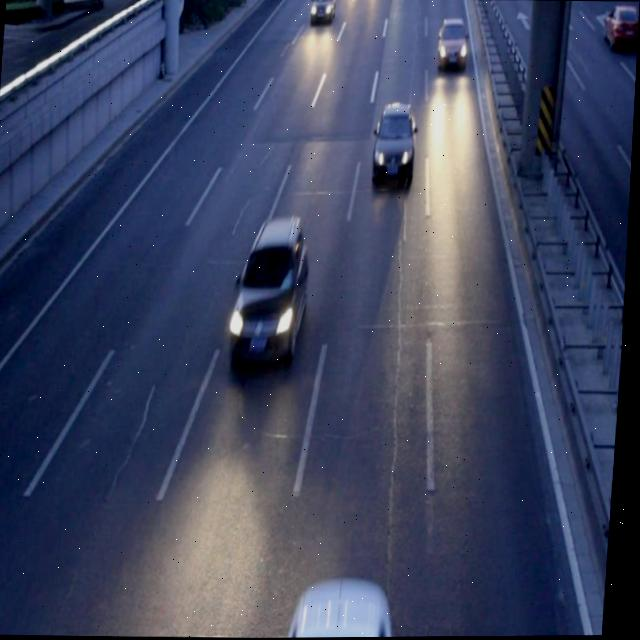car: (230, 215, 312, 363), (286, 578, 403, 638), (371, 103, 419, 186), (435, 17, 468, 72), (308, 0, 333, 25)
